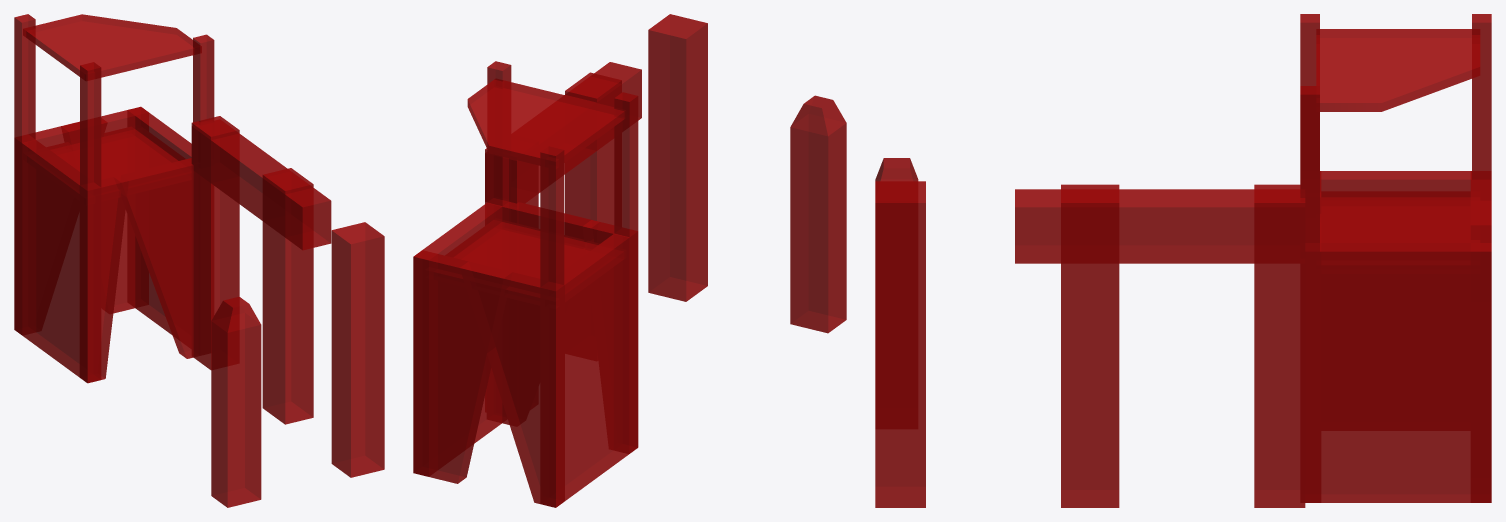
File: SM_Bld_Ruins_01_Collision.fbx
3 renders of one model, left to right at view 1: azimuth 30°, elevation 25°; view 2: azimuth 150°, elevation 25°; view 3: azimuth 270°, elevation 25°, orthographic. The views are drawn at different scales.
Parts seen in each view (by area): view 1: SM_Bld_Ruins_01_Collision; view 2: SM_Bld_Ruins_01_Collision; view 3: SM_Bld_Ruins_01_Collision.
Part boxes in pixels (left/top/right/bottom): SM_Bld_Ruins_01_Collision: left=14, top=14, right=384, bottom=507; SM_Bld_Ruins_01_Collision: left=413, top=14, right=846, bottom=507; SM_Bld_Ruins_01_Collision: left=875, top=14, right=1491, bottom=507.
Size of the model in its own units: 328 by 625 by 854.
